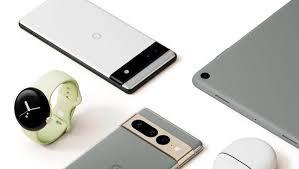Smartphone: (181, 0, 299, 148), (25, 0, 170, 87), (33, 117, 196, 169)
